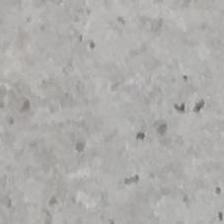Non_Crack: (22, 24, 224, 220)
